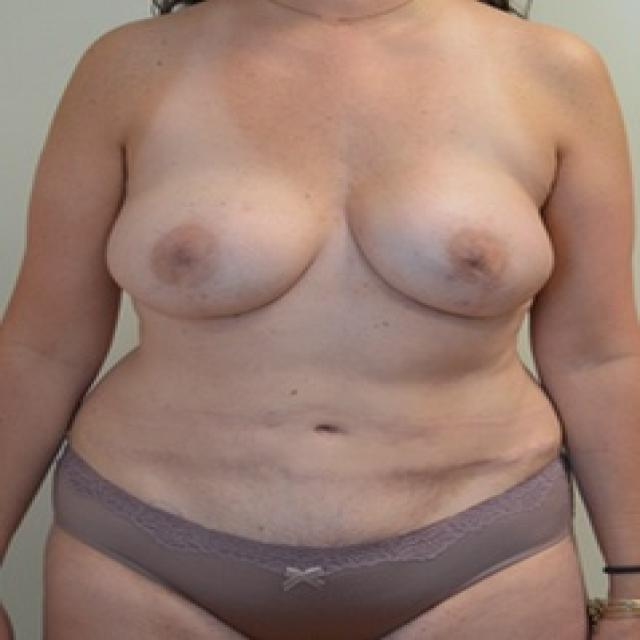Seno ileso: (95, 135, 332, 334), (339, 135, 566, 334)
